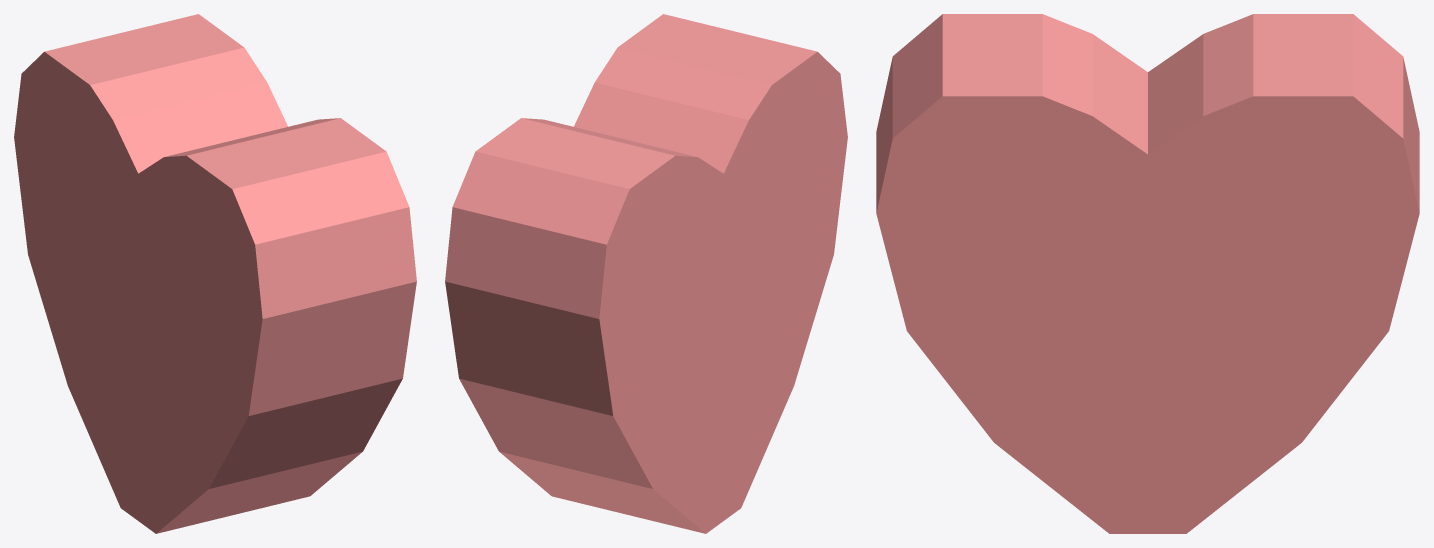
Rendered from heart.glb.
3 renders of one model, left to right at view 1: azimuth 30°, elevation 25°; view 2: azimuth 150°, elevation 25°; view 3: azimuth 270°, elevation 25°, orthographic. The views are drawn at different scales.
Parts seen in each view (by area): view 1: Cube.002_Cube.024; view 2: Cube.002_Cube.024; view 3: Cube.002_Cube.024.
Part boxes in pixels (x1,y1,x2,y2): Cube.002_Cube.024: (14, 14, 416, 533); Cube.002_Cube.024: (445, 14, 847, 533); Cube.002_Cube.024: (876, 14, 1419, 533).
Size of the model in its own units: 0.1236 by 0.3067 by 0.3449.
Materials: 1 (1 with a texture image).
